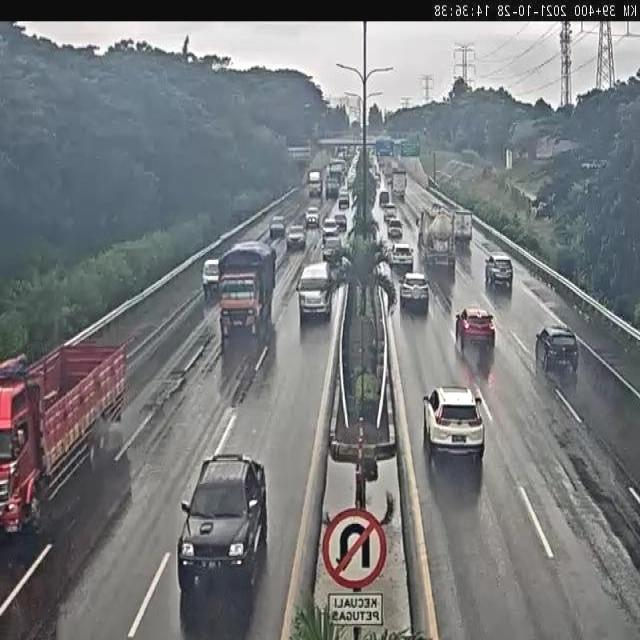Bus: (297, 261, 331, 322)
Car: (417, 384, 490, 469), (539, 326, 581, 377), (454, 307, 504, 349), (399, 271, 431, 310), (486, 256, 514, 291), (390, 242, 414, 270), (324, 236, 342, 258), (288, 226, 306, 246), (268, 217, 286, 236), (304, 207, 320, 228), (388, 217, 403, 239), (320, 222, 336, 238), (338, 190, 351, 208), (383, 206, 397, 220), (336, 212, 347, 226)
Truck: (0, 338, 127, 539), (171, 450, 281, 587), (216, 244, 280, 346), (415, 209, 456, 275), (455, 208, 475, 250), (390, 170, 408, 201), (308, 171, 322, 197), (324, 177, 338, 199)
Van: (200, 260, 221, 293)
